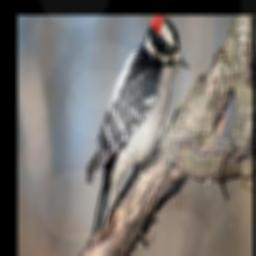Woodpecker: (85, 16, 192, 241)
